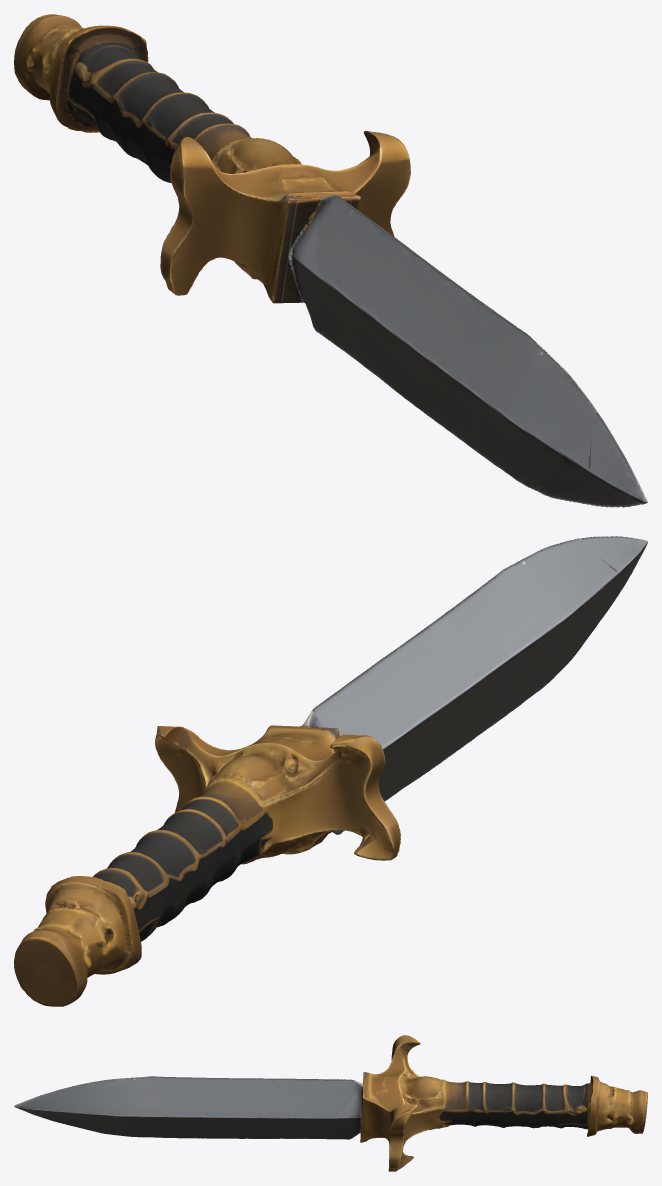
Rendered from Dagger.fbx.
3 views of the same model, one above another, from view 1: azimuth 30°, elevation 25°; view 2: azimuth 150°, elevation 25°; view 3: azimuth 270°, elevation 25° (orthographic). The views are drawn at different scales.
Visible parts, largest first — view 1: Dagger; view 2: Dagger; view 3: Dagger.
Boxes of the visible parts, x1,y1,x2,y2 form: Dagger: (14, 14, 647, 507); Dagger: (14, 536, 647, 1006); Dagger: (14, 1035, 647, 1171).
Size of the model in its own units: 17.15 by 11.78 by 75.1.
